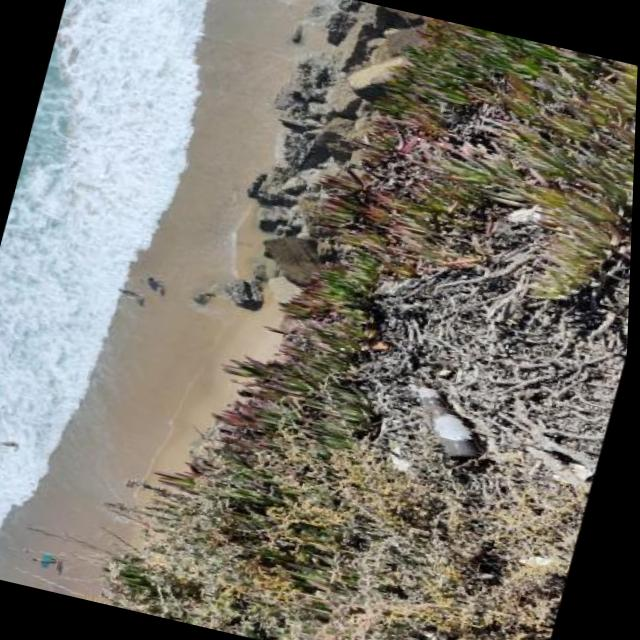glass: (397, 381, 498, 466)
